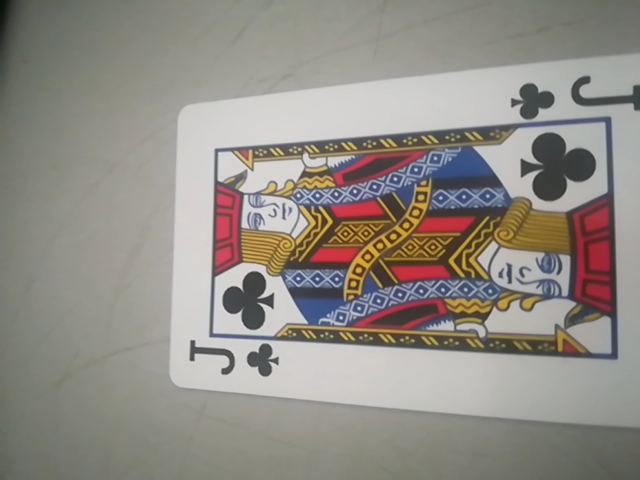mh j: (176, 50, 640, 435)
